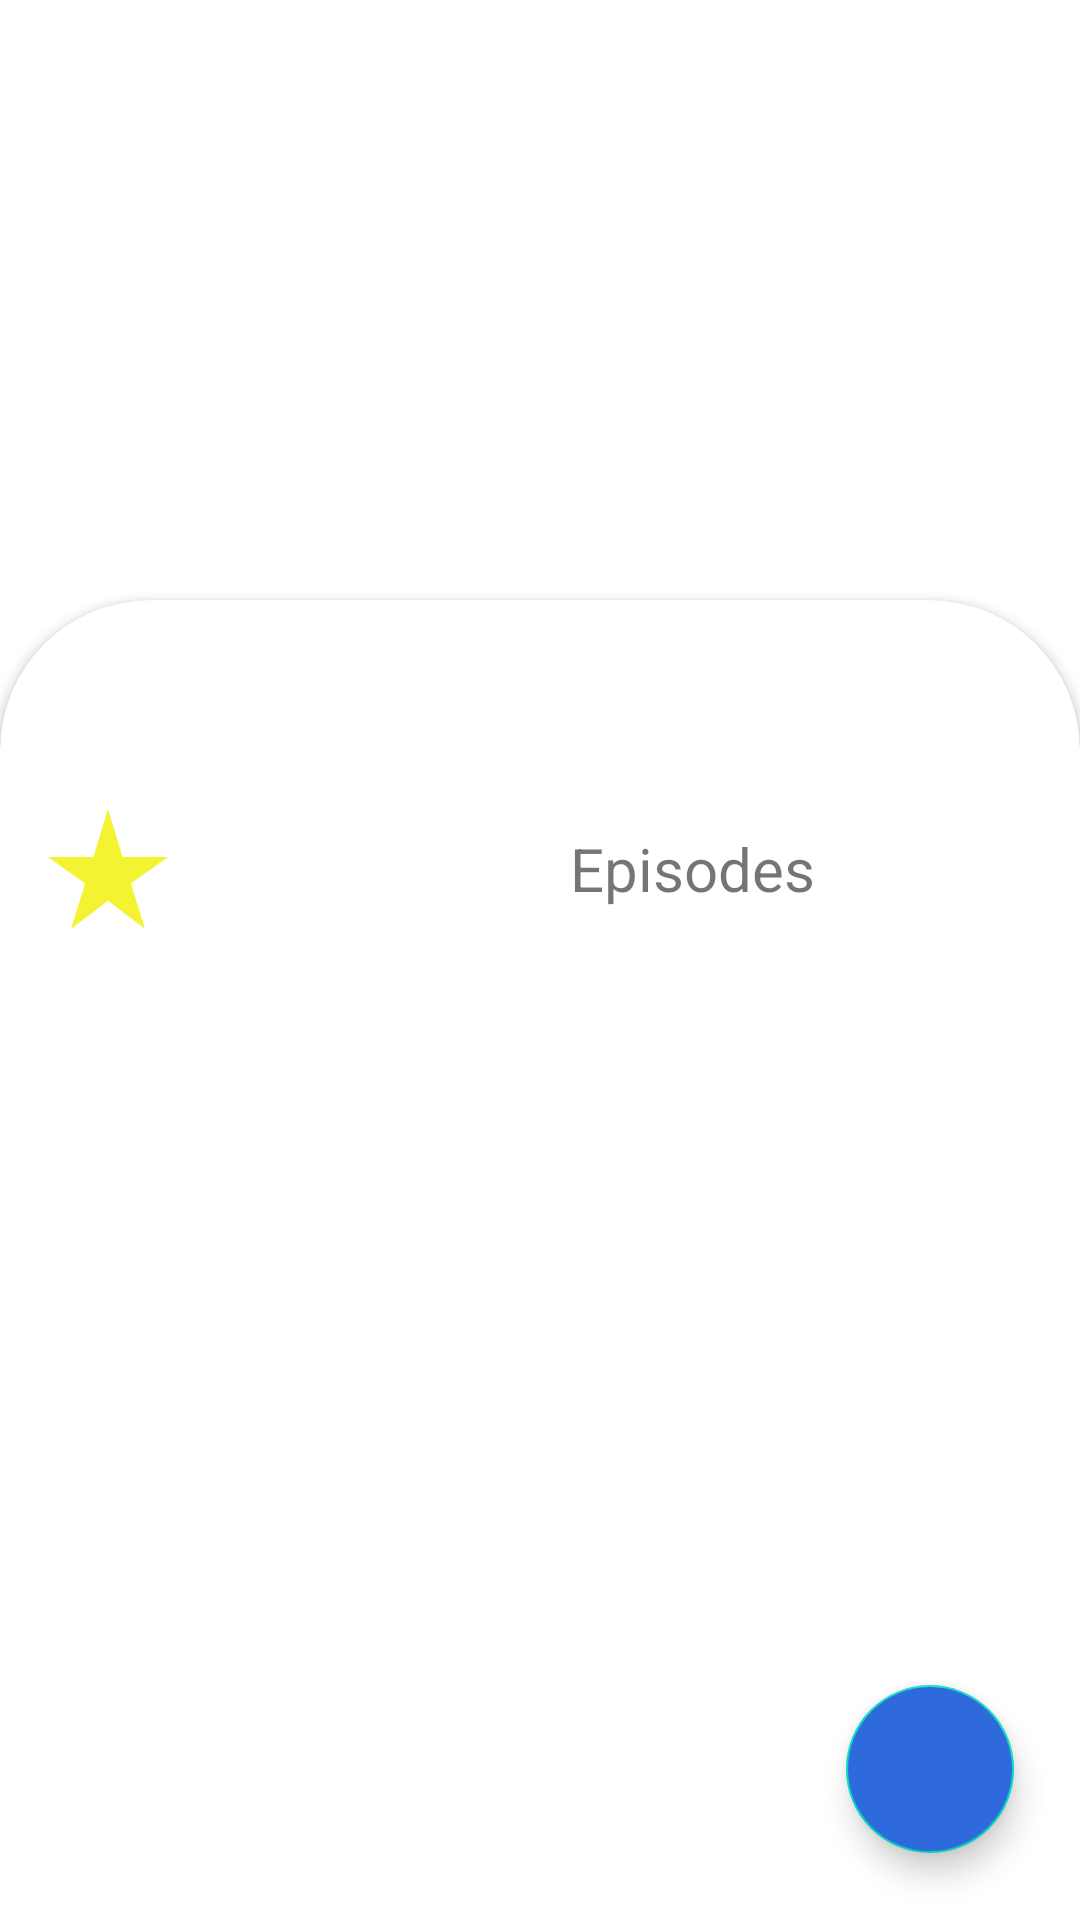

Icons on this 1080 × 1920 Android screen, each with its box as (x1, y1, x2, y2):
rate: (48, 809, 168, 929)
